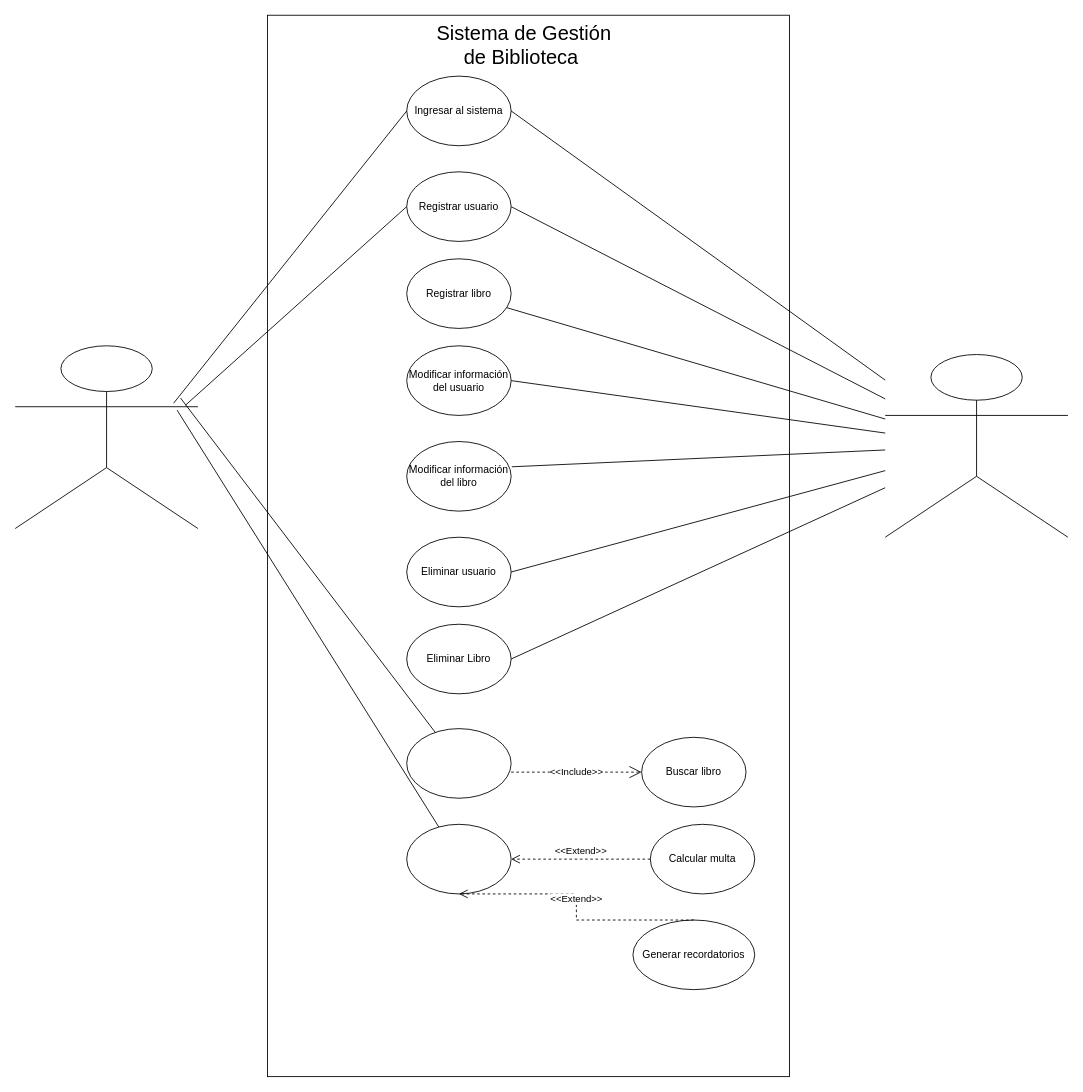
Some shapes in this 1083 by 1092 pixel diagram are drawn without their labels. Here are the shapes that lost their labels. From the top down, the centre of each, then its label:
the point at 106,437: Cliente
the point at 976,445: Administrador
the point at 458,763: Prestar libro
the point at 458,858: Devolver libro
